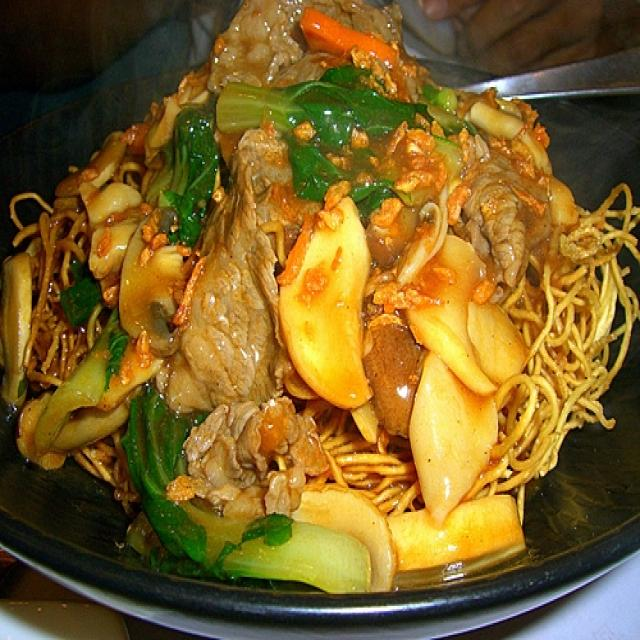面条主食: (19, 24, 616, 570)
